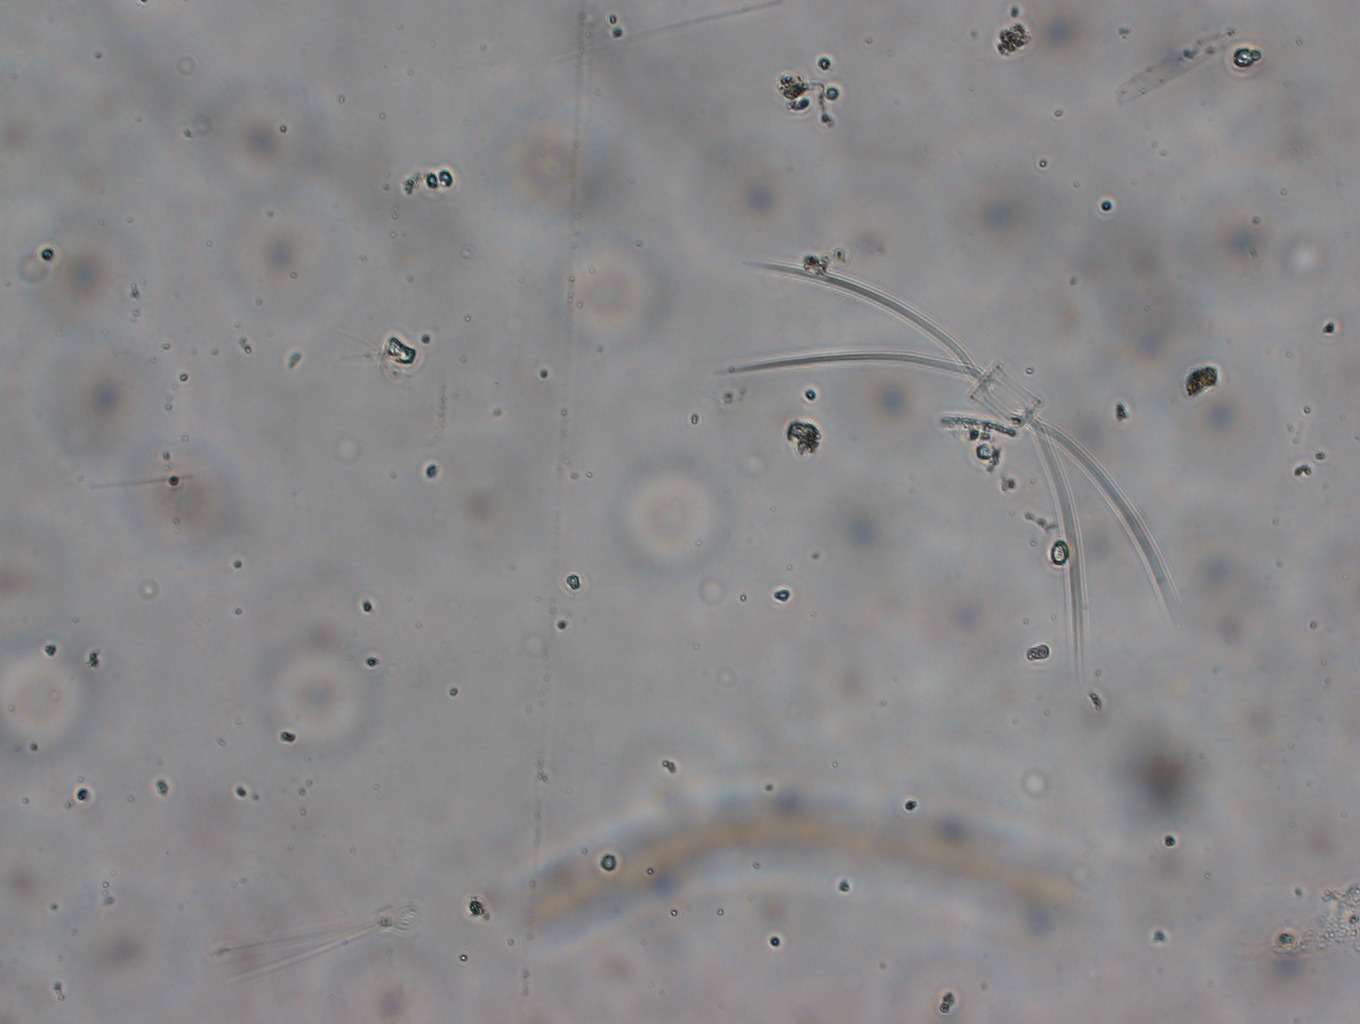chaetoceros: (712, 252, 1188, 687)
